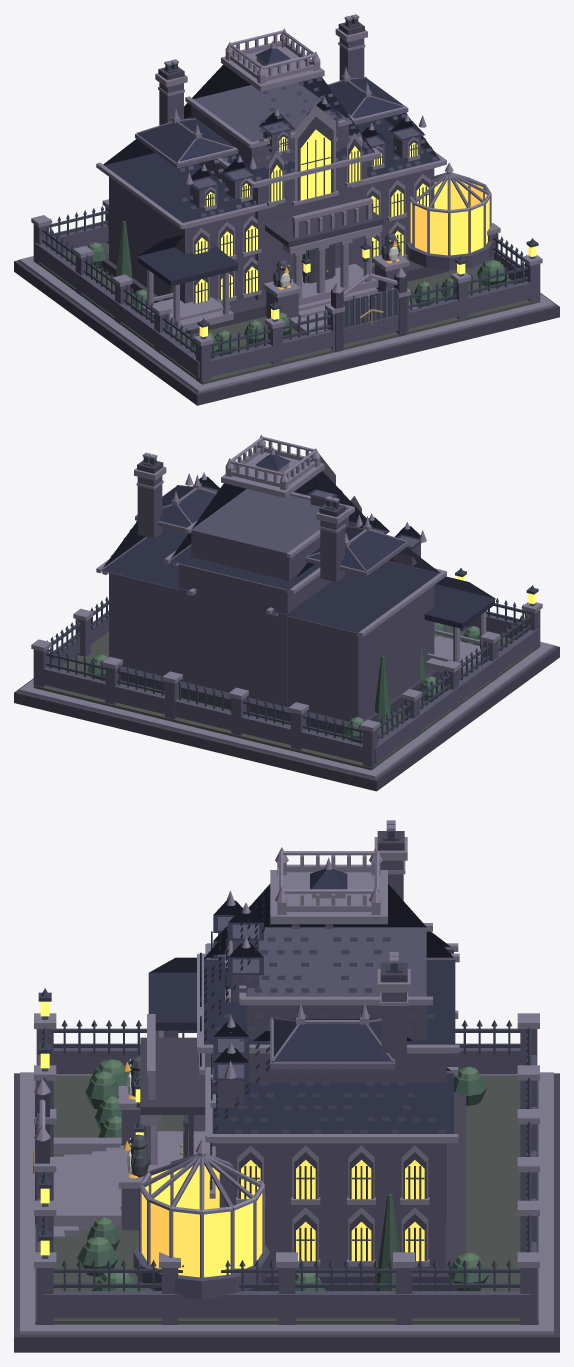
The model's file is cobblepot_manor_8bit.glb.
3 renders of one model, top to bottom at view 1: azimuth 30°, elevation 25°; view 2: azimuth 150°, elevation 25°; view 3: azimuth 270°, elevation 25°, orthographic. The views are drawn at different scales.
Visible parts, largest first — view 1: SM_Plot_LowerPlinth, SM_Manor_LeftWing, SM_Manor_UpperTower, SM_Fence_LowWall.002, SM_Plot_Coping, SM_Manor_CentralBlock, SM_Roof_LeftMansard, SM_Garden_Soil, SM_Fence_LowWall, SM_Veranda_Roof, SM_Cobblepot_LeftWing_HipSlate, SM_Porch_Roof (+41 smaller); view 2: SM_Manor_CentralBlock, SM_Manor_LeftWing, SM_Manor_UpperTower, SM_Plot_LowerPlinth, SM_Manor_RightWing, SM_Roof_LeftMansard, SM_Fence_LowWall.003, SM_Plot_Coping, SM_Garden_Soil, SM_Fence_LowWall, SM_Roof_CentralMansard, SM_Roof_RightMansard (+19 smaller); view 3: SM_Garden_Soil, SM_Manor_RightWing, SM_Plot_Coping, SM_Plot_LowerPlinth, SM_Fence_LowWall.001, SM_Manor_UpperTower, SM_Roof_RightMansard, SM_Roof_CentralMansard, SM_Manor_Foundation, SM_Porch_Roof, SM_Cobblepot_RightWing_HipSlate, SM_Roof_CentralCap (+38 smaller).
Part boxes in pixels (x1=…): SM_Plot_LowerPlinth: x1=14, y1=260, x2=559, y2=405; SM_Manor_LeftWing: x1=109, y1=177, x2=255, y2=304; SM_Manor_UpperTower: x1=191, y1=82, x2=348, y2=169; SM_Fence_LowWall.002: x1=211, y1=281, x2=530, y2=376; SM_Plot_Coping: x1=19, y1=256, x2=554, y2=392; SM_Manor_CentralBlock: x1=198, y1=159, x2=366, y2=300; SM_Roof_LeftMansard: x1=103, y1=139, x2=254, y2=222; SM_Garden_Soil: x1=39, y1=242, x2=540, y2=384; SM_Fence_LowWall: x1=34, y1=242, x2=199, y2=377; SM_Veranda_Roof: x1=137, y1=235, x2=238, y2=280; SM_Cobblepot_LeftWing_HipSlate: x1=138, y1=119, x2=233, y2=162; SM_Porch_Roof: x1=265, y1=205, x2=383, y2=247; SM_Manor_CentralBlock: x1=179, y1=563, x2=331, y2=706; SM_Manor_LeftWing: x1=288, y1=585, x2=434, y2=721; SM_Manor_UpperTower: x1=191, y1=489, x2=348, y2=580; SM_Plot_LowerPlinth: x1=14, y1=646, x2=559, y2=791; SM_Manor_RightWing: x1=109, y1=572, x2=178, y2=675; SM_Roof_LeftMansard: x1=272, y1=547, x2=439, y2=632; SM_Fence_LowWall.003: x1=43, y1=667, x2=362, y2=762; SM_Plot_Coping: x1=19, y1=641, x2=554, y2=778; SM_Garden_Soil: x1=33, y1=624, x2=534, y2=770; SM_Fence_LowWall: x1=374, y1=628, x2=539, y2=763; SM_Roof_CentralMansard: x1=170, y1=471, x2=366, y2=590; SM_Roof_RightMansard: x1=102, y1=521, x2=189, y2=591; SM_Garden_Soil: x1=35, y1=1075, x2=538, y2=1324; SM_Manor_RightWing: x1=219, y1=1143, x2=445, y2=1273; SM_Plot_Coping: x1=20, y1=1072, x2=553, y2=1334; SM_Plot_LowerPlinth: x1=14, y1=1073, x2=559, y2=1352; SM_Fence_LowWall.001: x1=43, y1=1291, x2=530, y2=1318; SM_Manor_UpperTower: x1=247, y1=928, x2=426, y2=1039; SM_Roof_RightMansard: x1=212, y1=1031, x2=453, y2=1133; SM_Roof_CentralMansard: x1=204, y1=884, x2=455, y2=1044; SM_Manor_Foundation: x1=193, y1=1092, x2=466, y2=1290; SM_Porch_Roof: x1=140, y1=1037, x2=210, y2=1114; SM_Cobblepot_RightWing_HipSlate: x1=273, y1=1018, x2=392, y2=1061; SM_Roof_CentralCap: x1=270, y1=870, x2=387, y2=924.
Bounding box in the file's own units: 16 × 10.29 × 14.
